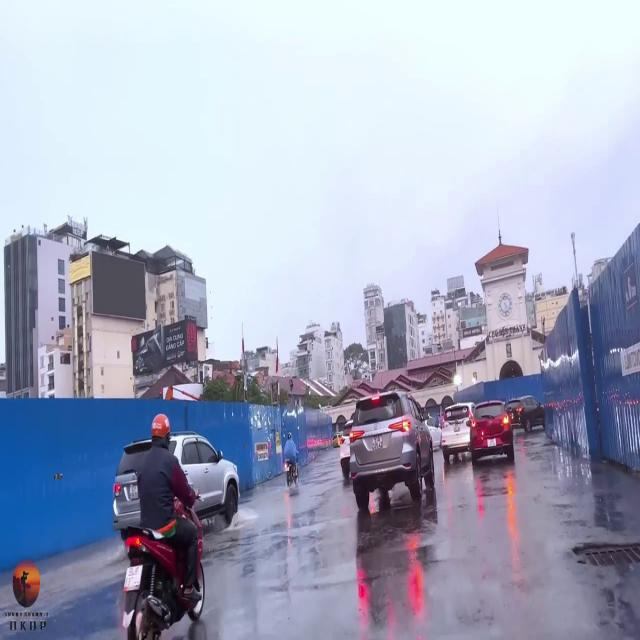bien_trang: (123, 567, 142, 589), (372, 435, 383, 449), (130, 486, 138, 498)
